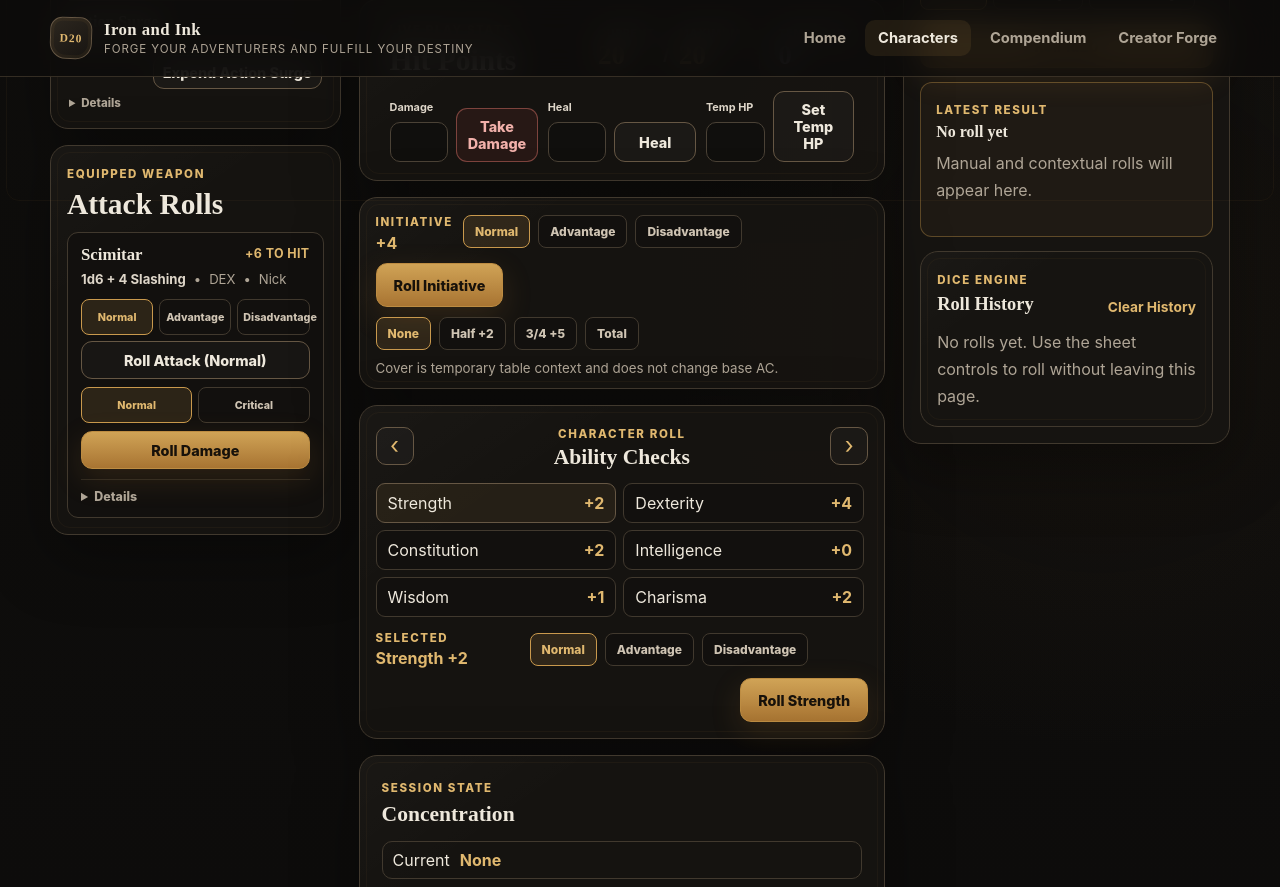
it: PLAY dashboard Attack Rolls › K/L/M/N reuses normal and critical weapon damage execution with Latest Result and Roll History
(page scrolled)
Expected: the element "Attack Rolls" is shown, 50,145 -> 340,535
Click the button "Roll Damage" at {"x": 195, "y": 450}, box 81,431 -> 310,469
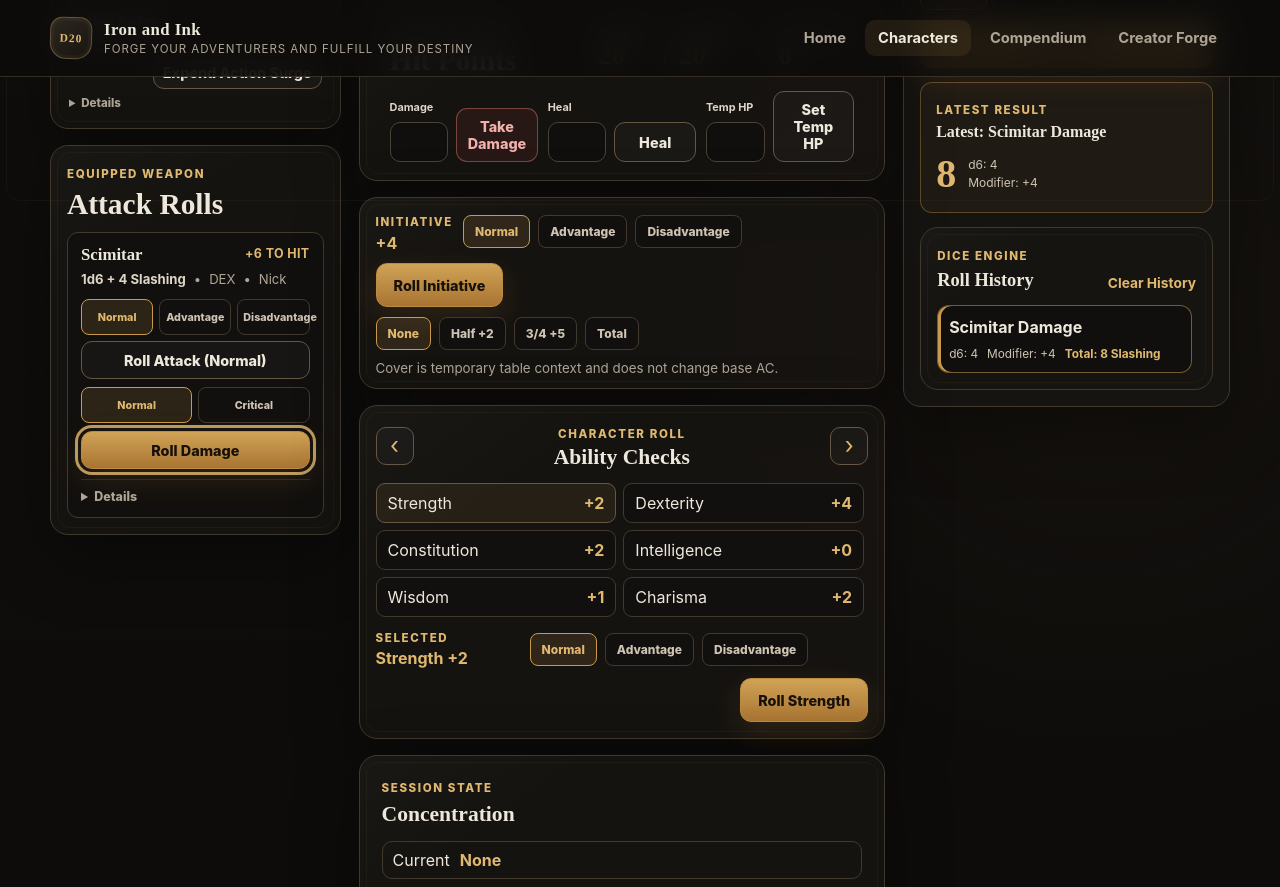
Now the element "Latest: Scimitar Damage" is shown, box 920,82 -> 1213,213
Now the text "8" is shown, box 936,150 -> 956,197
Now the text "Scimitar Damage" is shown, box 949,317 -> 1082,337
Click the button "Critical" at {"x": 254, "y": 405}, box 198,387 -> 310,423
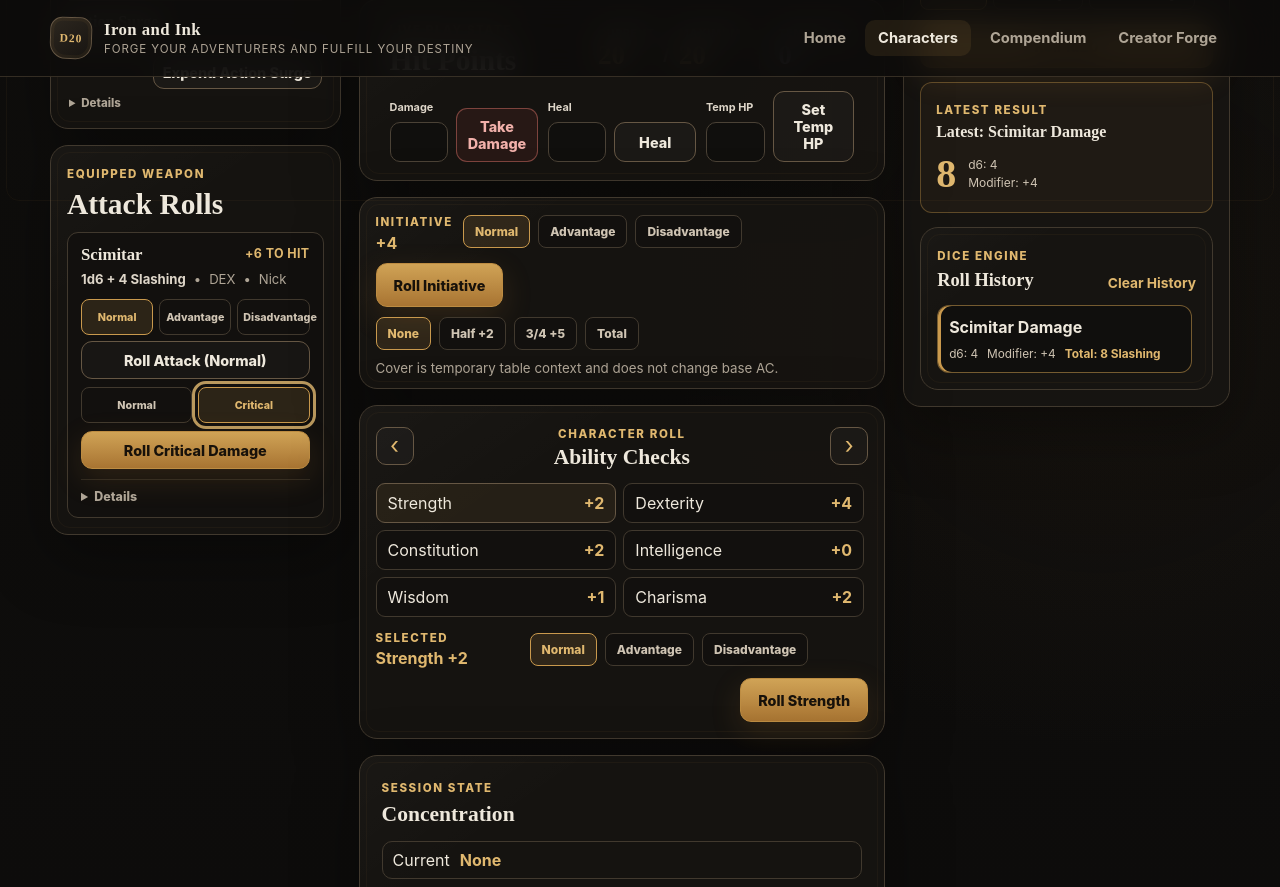
Click the button "Roll Critical Damage" at {"x": 195, "y": 450}, box 81,431 -> 310,469
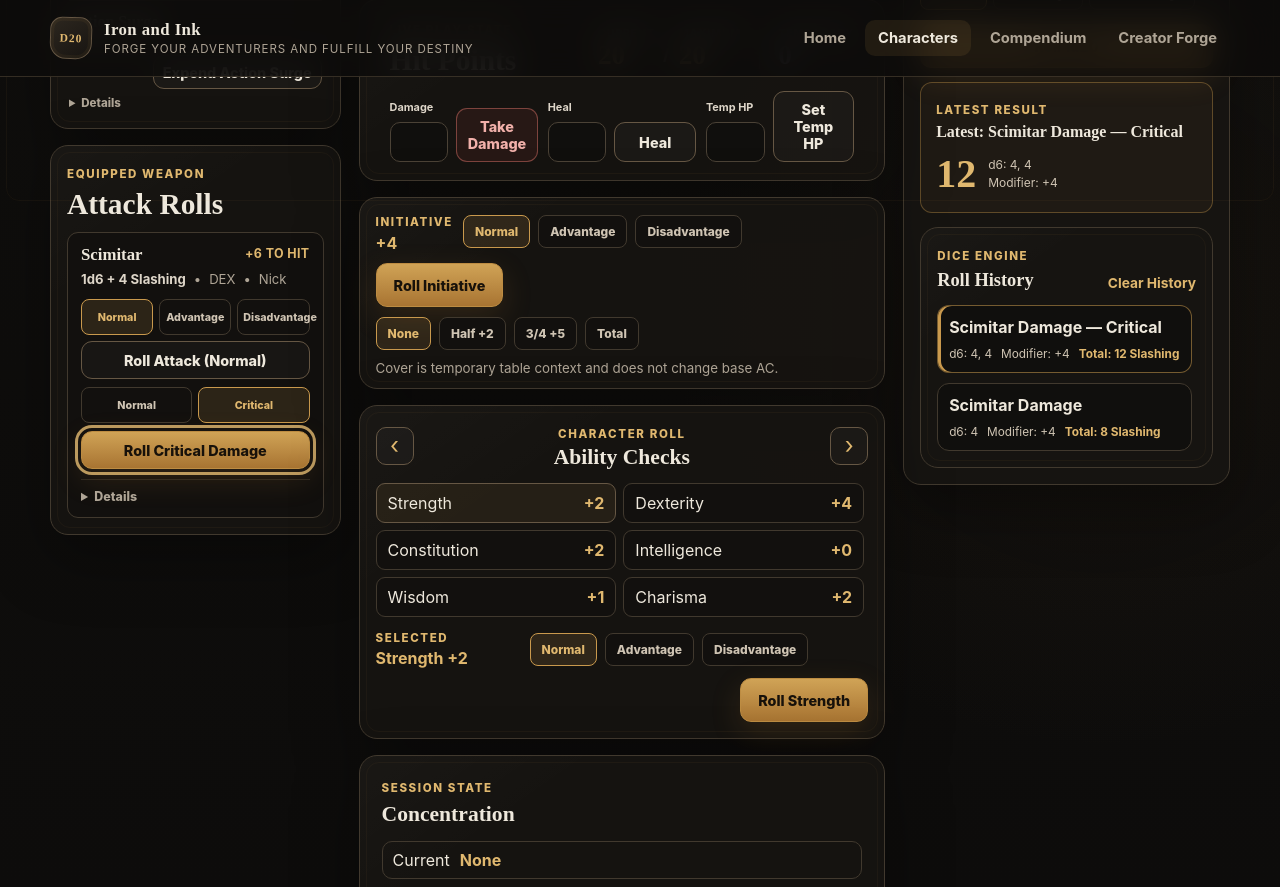
Now the element "Latest: Scimitar Damage" is shown, box 920,82 -> 1213,213
Now the text "12" is shown, box 936,150 -> 976,197
Now the text "Scimitar Damage — Critical" is shown, box 949,317 -> 1162,337
